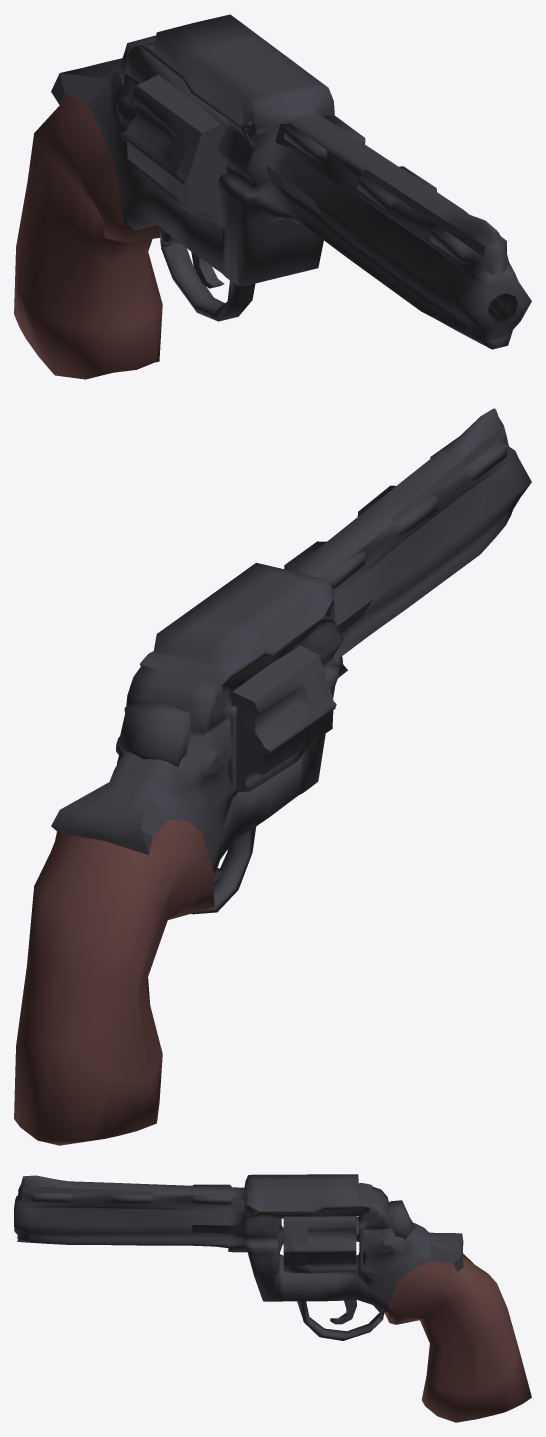
Rendered from Revolver.FBX.
3 views of the same model, one above another, from view 1: azimuth 30°, elevation 25°; view 2: azimuth 150°, elevation 25°; view 3: azimuth 270°, elevation 25° (orthographic). The views are drawn at different scales.
Visible parts, largest first — view 1: Body, Cylinder, Trigger; view 2: Body, Cylinder, Hammer; view 3: Body, Cylinder, Hammer, Trigger.
Boxes of the visible parts, x1,y1,x2,y2 form: Body: (14,14,531,379); Cylinder: (121,75,226,220); Trigger: (191,252,224,288); Body: (14,408,531,1145); Cylinder: (124,645,336,792); Hammer: (118,700,190,767); Body: (14,1174,531,1422); Cylinder: (283,1216,356,1273); Hammer: (356,1200,414,1241); Trigger: (330,1300,356,1324).
Bounding box in the file's own units: 14.61 × 39.4 × 78.85.
